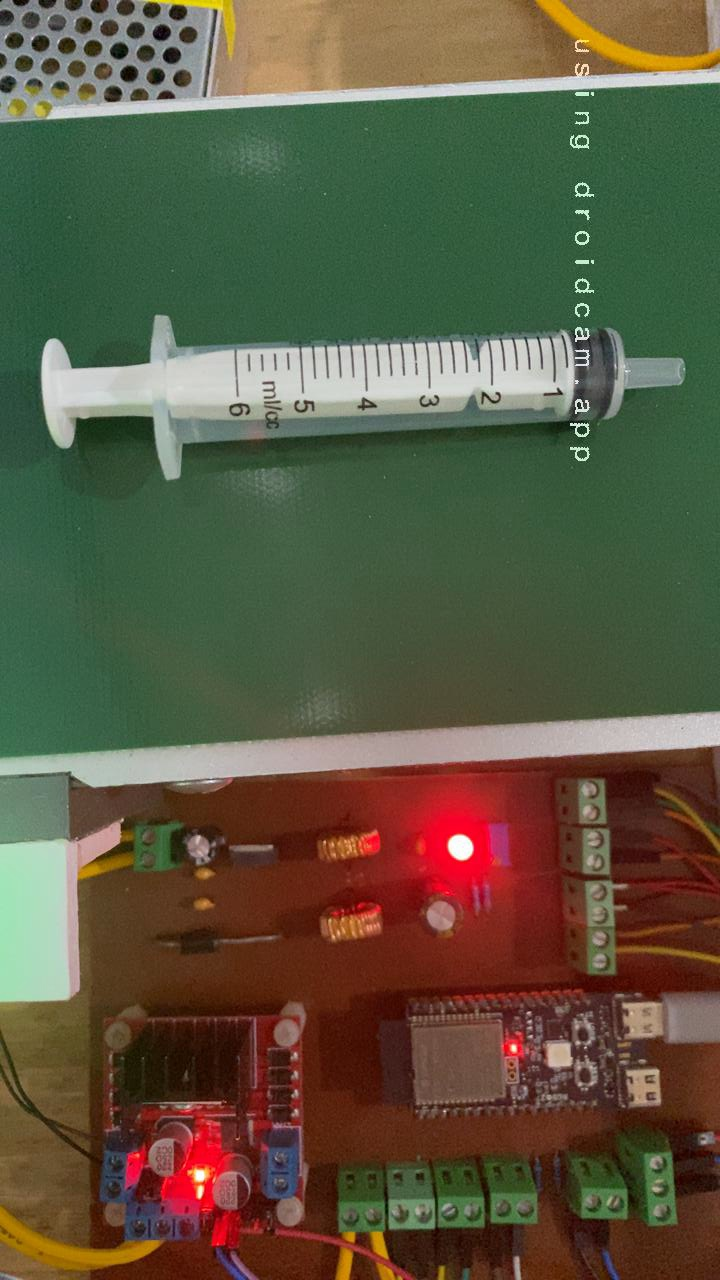syringe: (34, 309, 689, 488)
